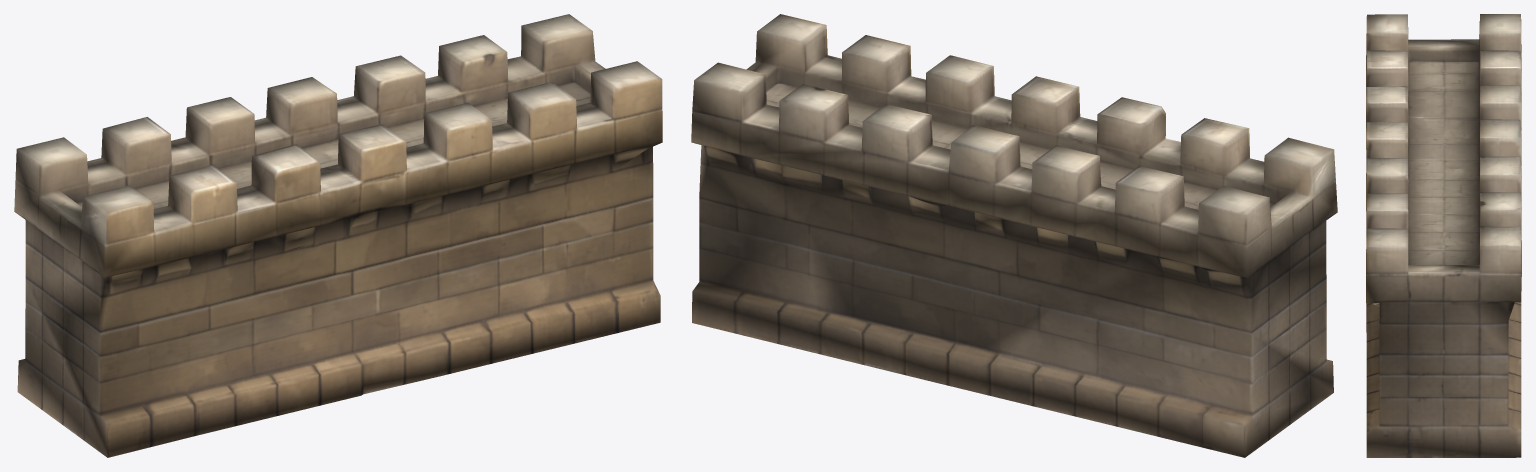
File: wall.glb
3 views of the same model, side by side, from view 1: azimuth 30°, elevation 25°; view 2: azimuth 150°, elevation 25°; view 3: azimuth 270°, elevation 25° (orthographic). The views are drawn at different scales.
Visible parts, largest first — view 1: geometry_0.001; view 2: geometry_0.001; view 3: geometry_0.001.
Boxes of the visible parts, x1=… form: geometry_0.001: x1=14, y1=14, x2=662, y2=457; geometry_0.001: x1=691, y1=14, x2=1337, y2=457; geometry_0.001: x1=1366, y1=14, x2=1521, y2=457.
Bounding box in the file's own units: 1.99 × 0.8342 × 0.5589.
1 material, 1 textured.
